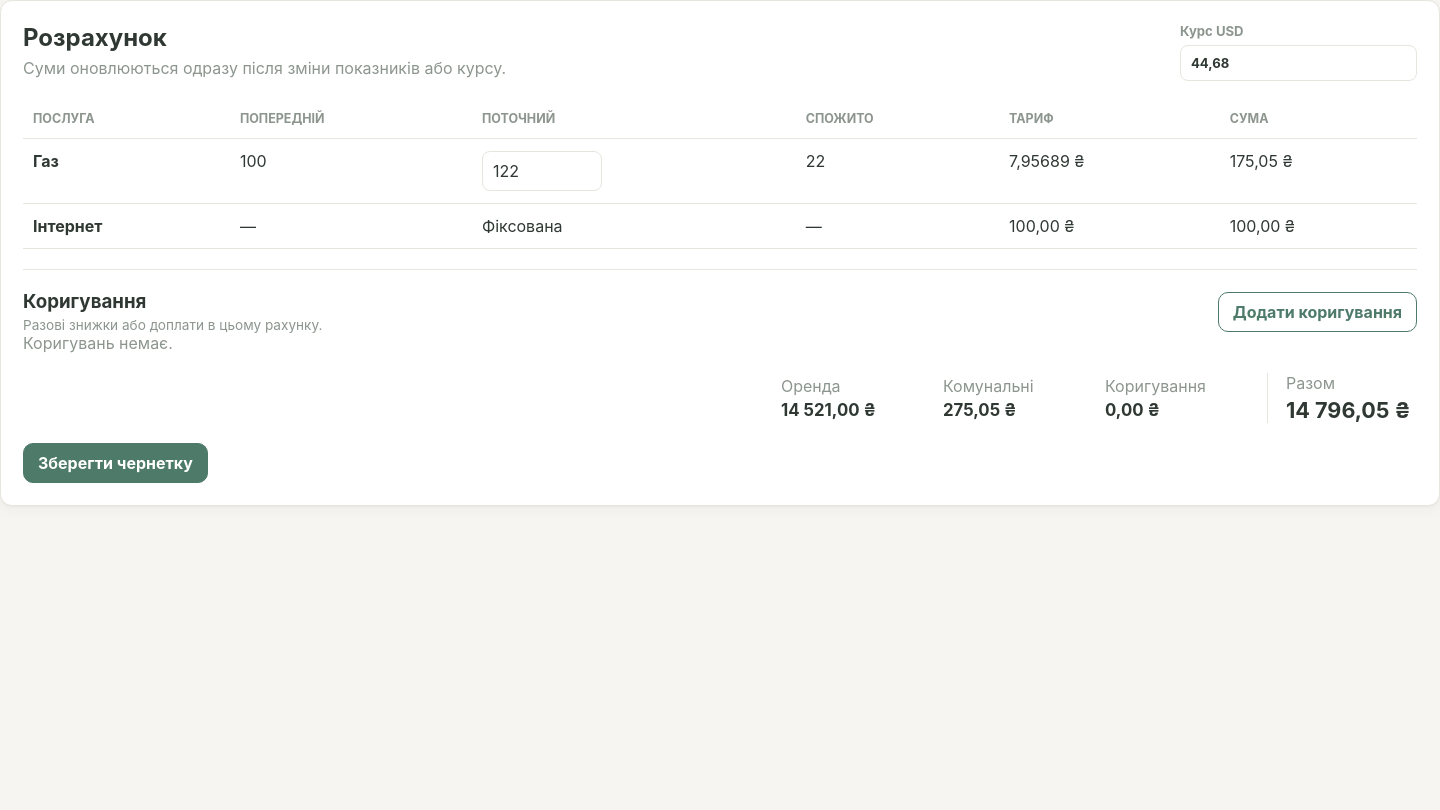
Scenario: InvoiceCalculator › shows a warning when the current reading is below the previous one
This screenshot has width=1440, height=810.
Replace the text in the field named "Поточний показник Газ" with "99" at [542, 171], box [482,151,602,191]
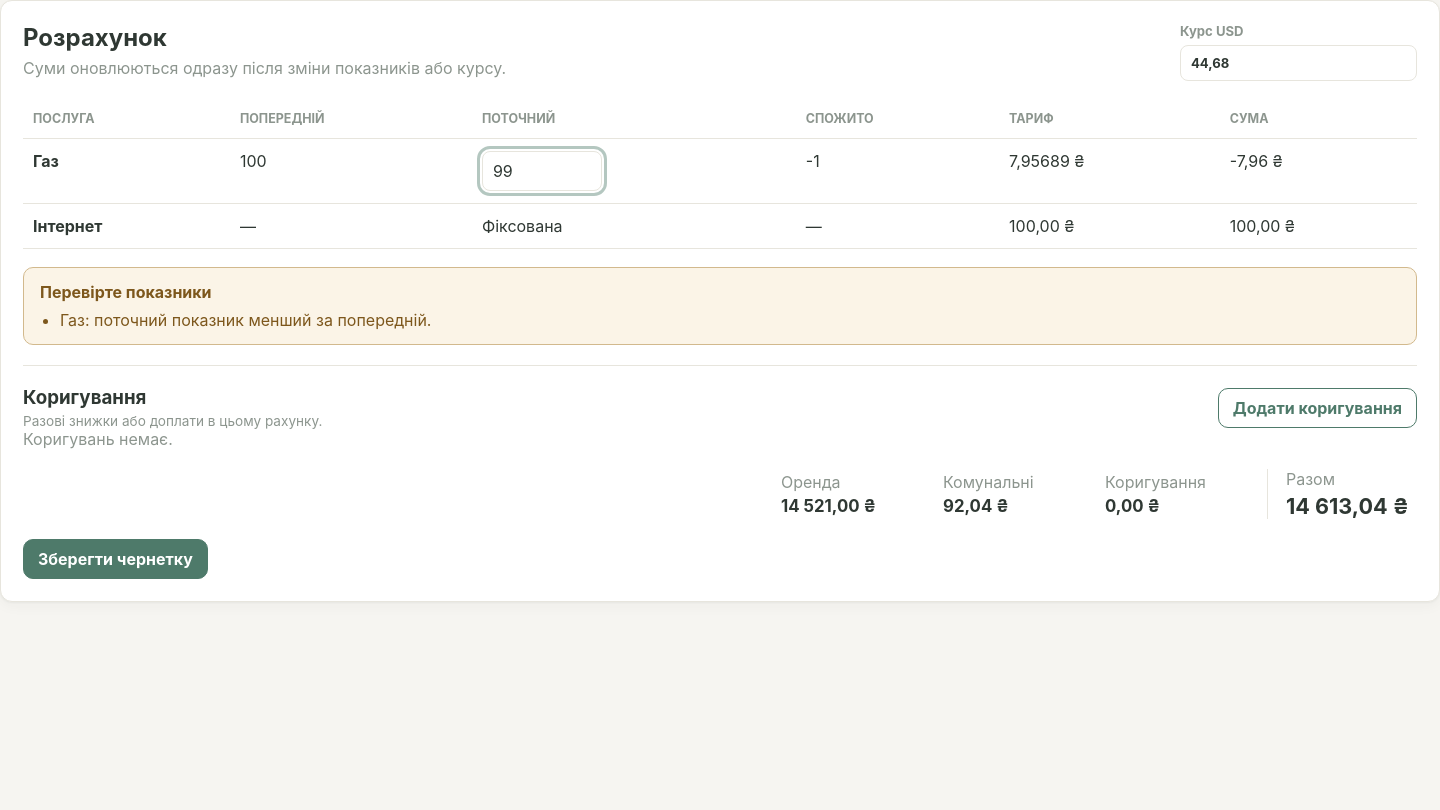
Expected: the field labelled "Курс USD" is shown, [1180,45,1417,81]
Now the message shows "Газ: поточний показник менший за попередній.", box [60,310,432,330]
